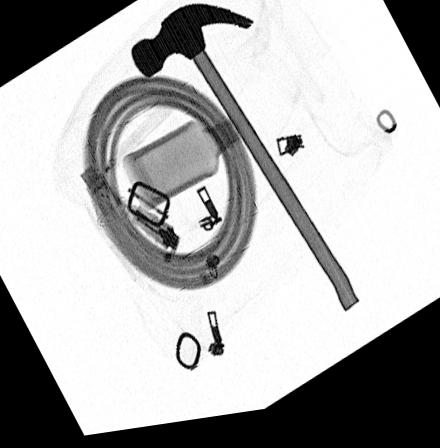Hammer: (130, 8, 358, 322)
